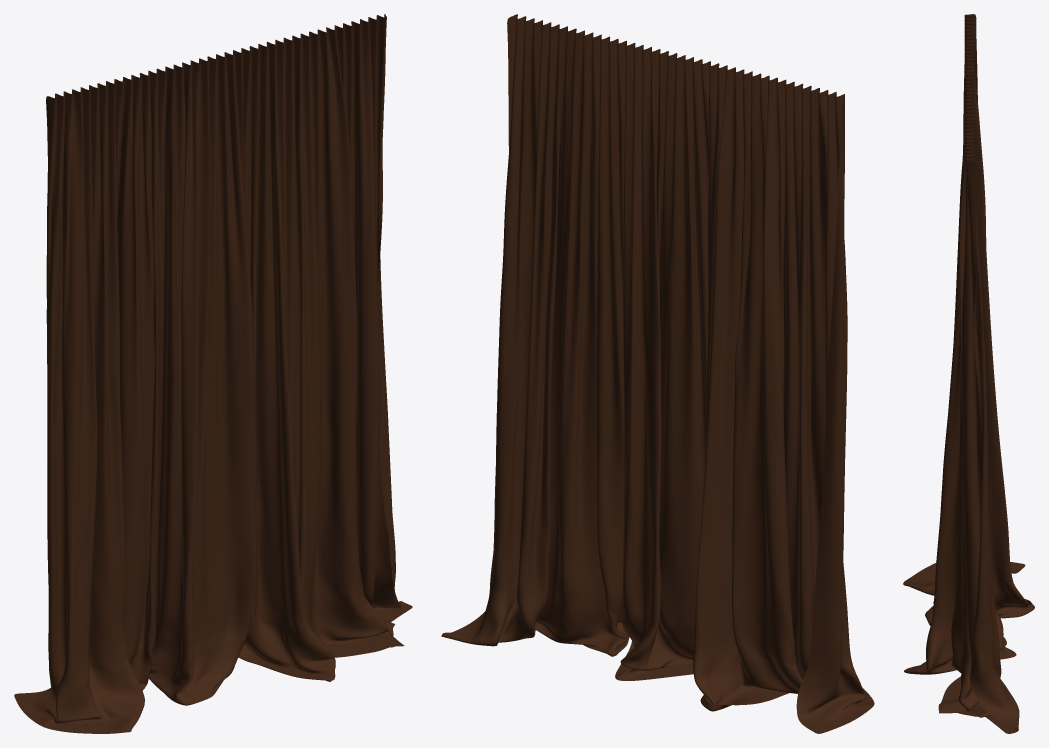
The model's file is curtains6.glb.
3 views of the same model, side by side, from view 1: azimuth 30°, elevation 25°; view 2: azimuth 150°, elevation 25°; view 3: azimuth 270°, elevation 25° (orthographic). The views are drawn at different scales.
Parts seen in each view (by area): view 1: curtain_2; view 2: curtain_2; view 3: curtain_2.
Boxes of the visible parts, x1=… form: curtain_2: x1=14, y1=14, x2=412, y2=733; curtain_2: x1=441, y1=14, x2=874, y2=733; curtain_2: x1=903, y1=14, x2=1034, y2=733.
Bounding box in the file's own units: 1.31 × 1.92 × 0.4146.
